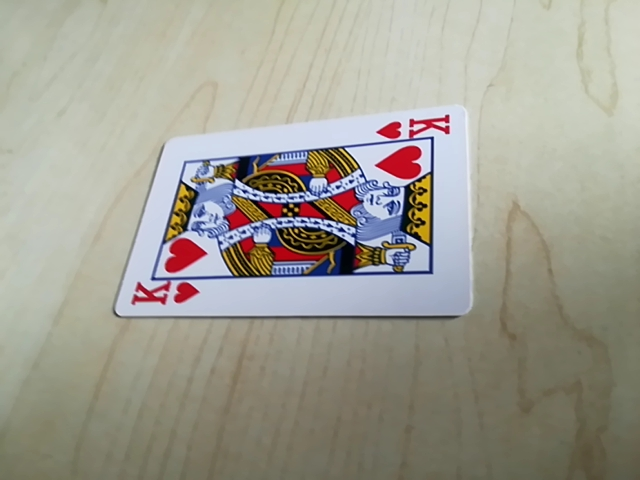hx k: (373, 112, 452, 143), (129, 279, 201, 312)
